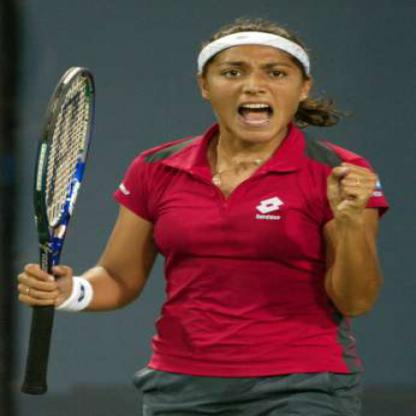face: (209, 23, 305, 142)
